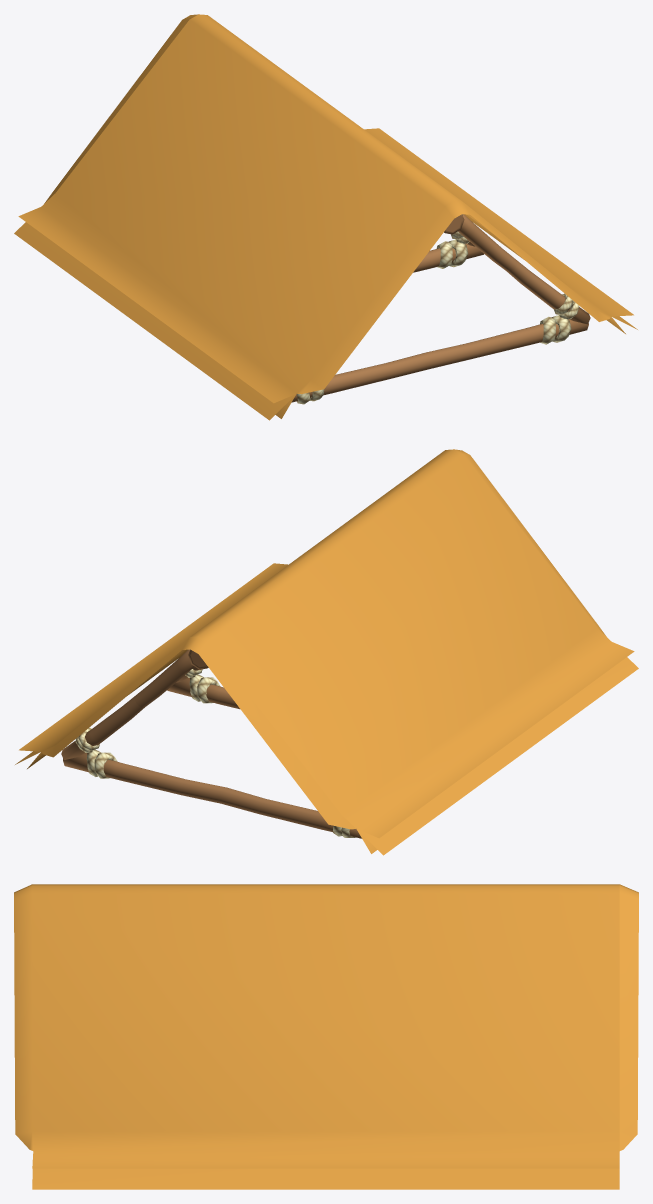
The model's file is H_Roof_Top.fbx.
The picture shows the model from 3 angles, top to bottom: view 1: azimuth 30°, elevation 25°; view 2: azimuth 150°, elevation 25°; view 3: azimuth 270°, elevation 25°; orthographic projection. The views are drawn at different scales.
Parts seen in each view (by area): view 1: H_RoofTop; view 2: H_RoofTop; view 3: H_RoofTop.
Boxes of the visible parts, left/top/right/bottom form: H_RoofTop: left=14, top=14, right=637, bottom=420; H_RoofTop: left=15, top=449, right=638, bottom=855; H_RoofTop: left=14, top=884, right=638, bottom=1189.
Size of the model in its own units: 249 by 122 by 317.
